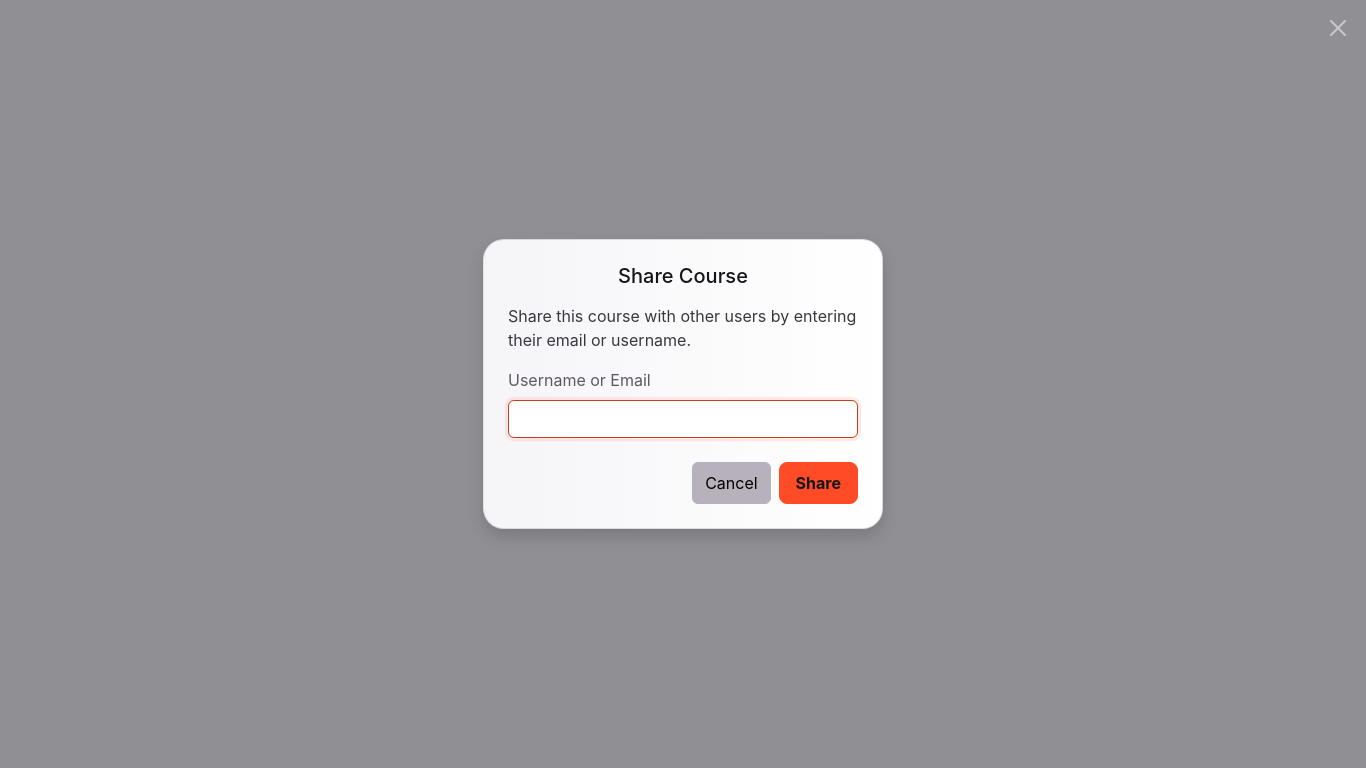
Scenario: ShareCourseModal › shows a success message when sharing is successful
Type "testuser" into the field labelled "Username or Email" at (683, 419), box [508,400,858,438]
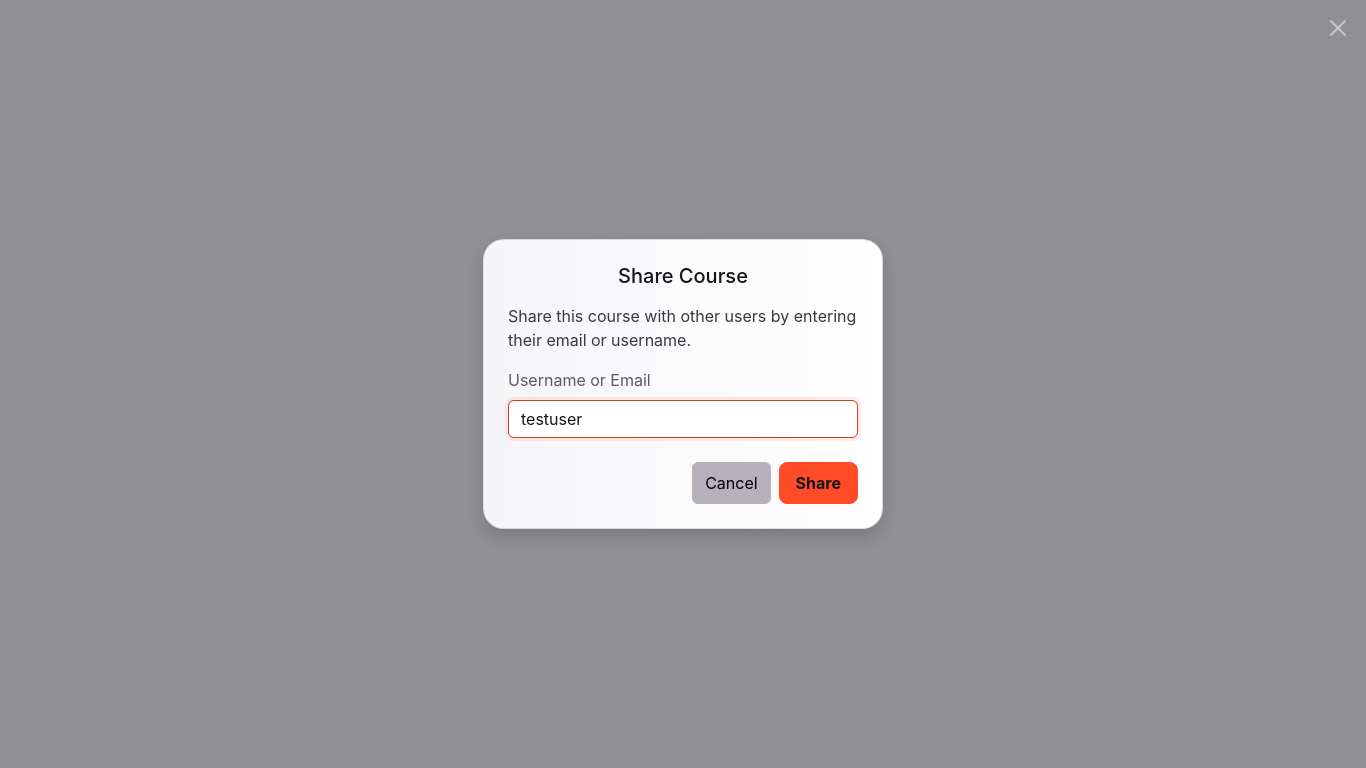
Click the button "Share" at (818, 483), box [779,462,858,504]
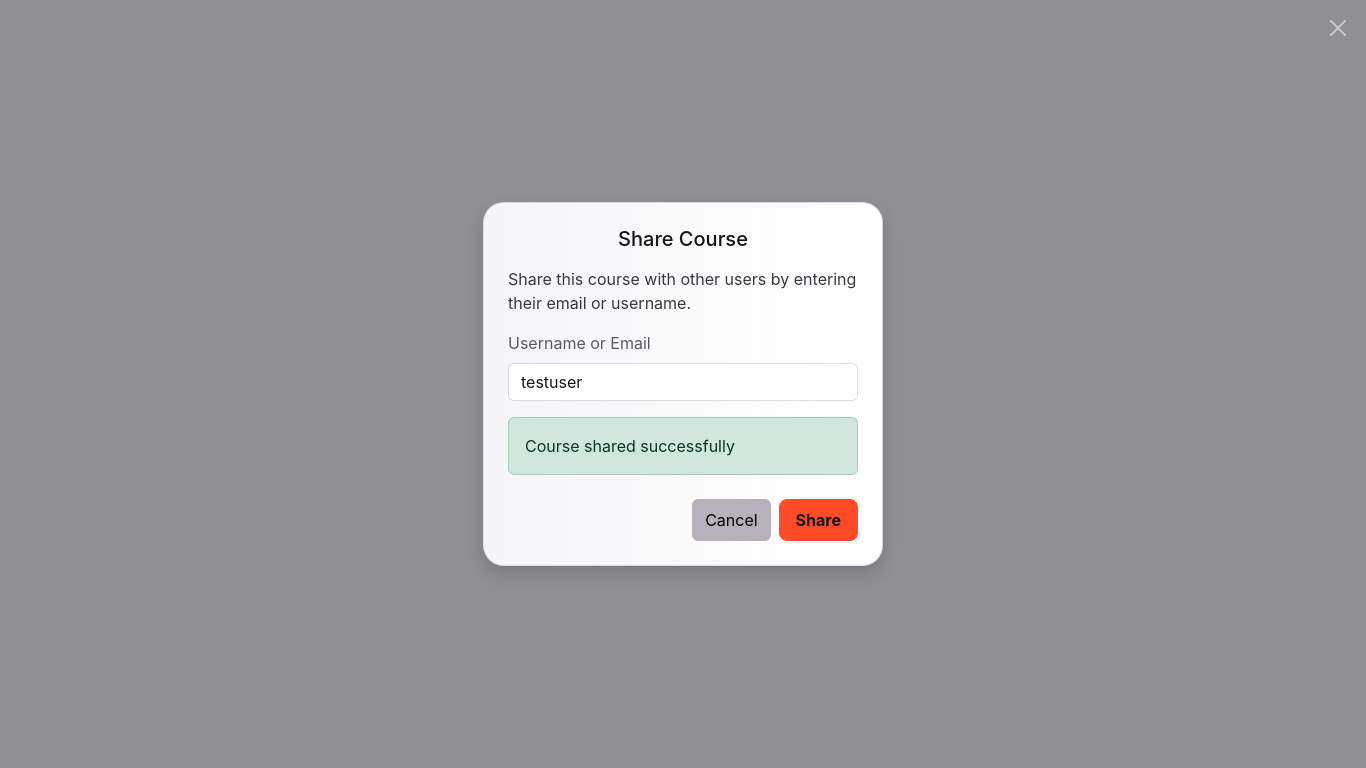
Result: the text "Course shared successfully" is shown at [508,417,858,475]
